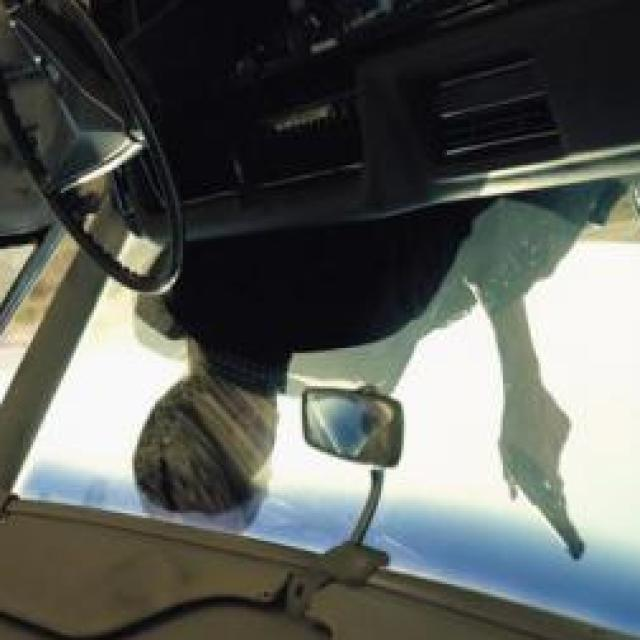pistol: (498, 402, 588, 564)
